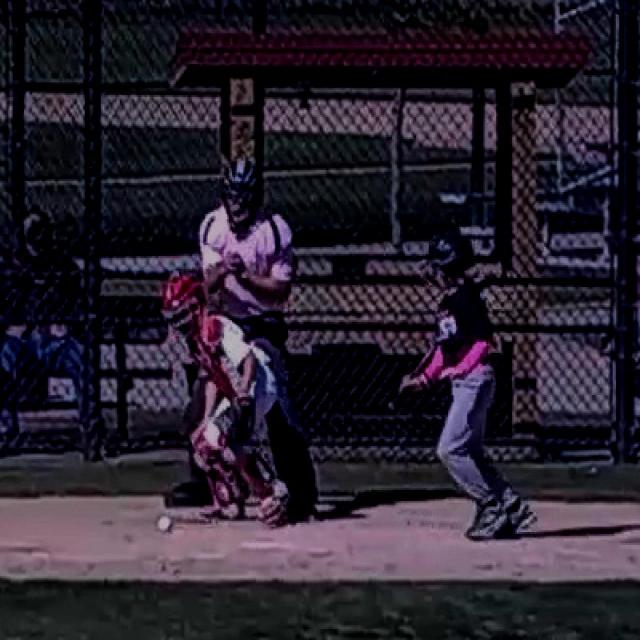baseball: (158, 516, 172, 531)
